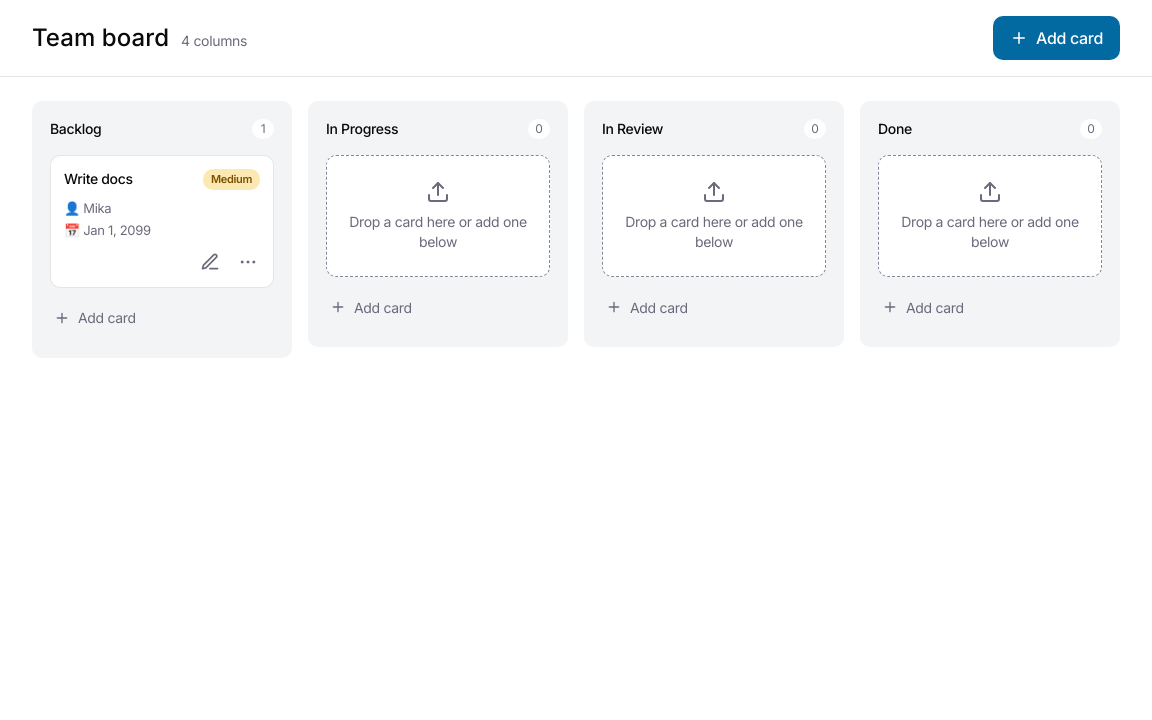
Scenario: keyboard and focus management › closes the menu when Tab leaves it
This screenshot has width=1152, height=720.
Click the button named "More actions for Write docs": (248, 262) [230,244,266,280]
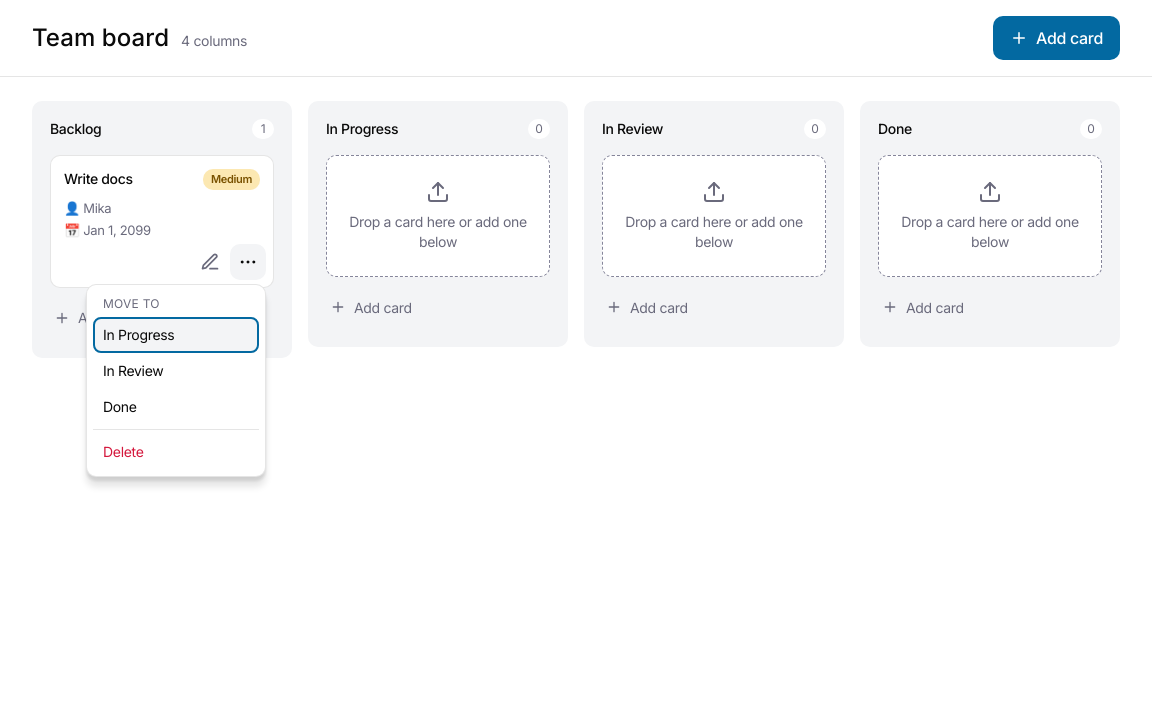
Press Tab
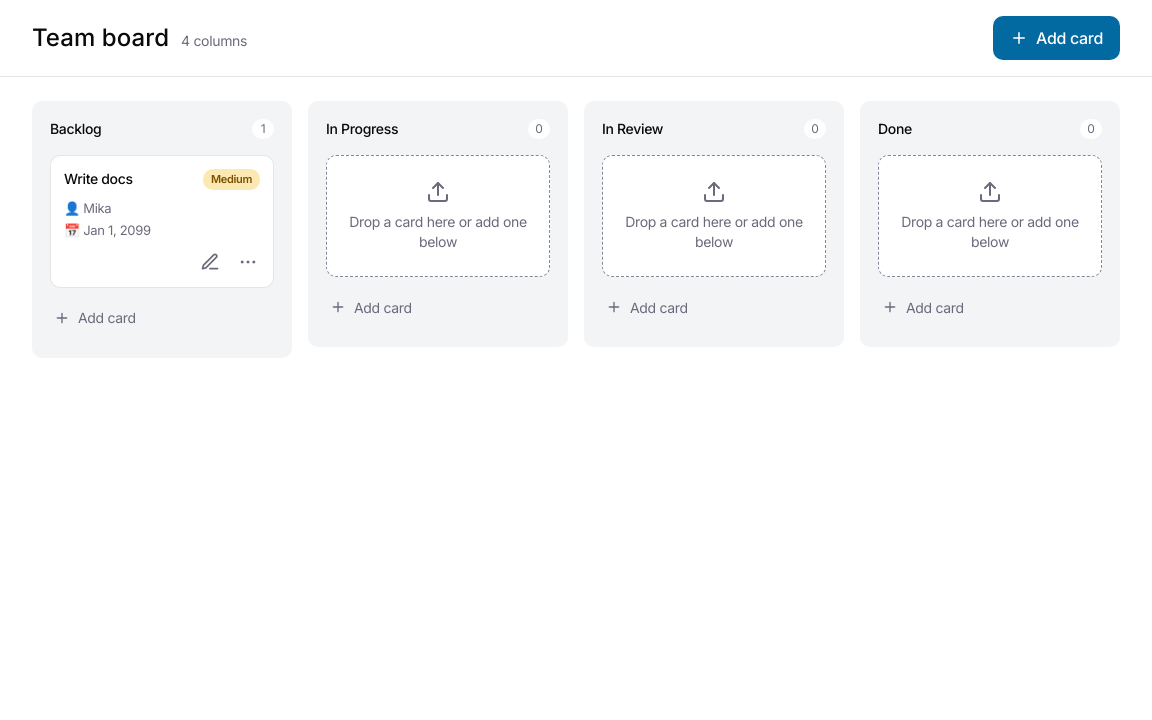
Expected: the menu is gone
